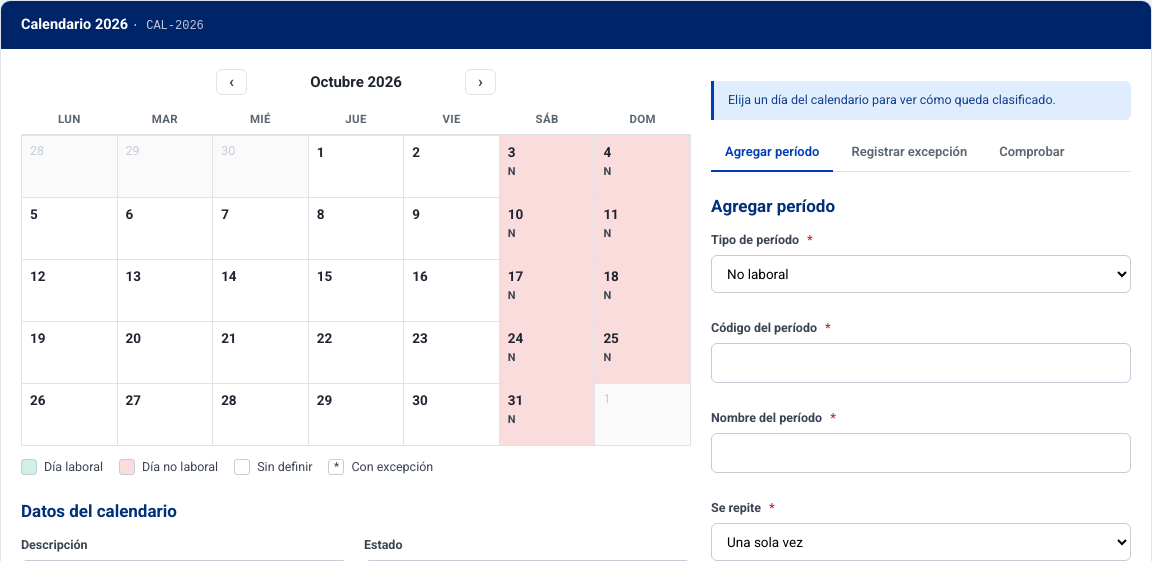
Test: CU-ADM-04 · calendario › pinta la rejilla y explica por qué un día quedó no laboral
Check: the table with class "cal-rejilla" is shown, box [21, 105, 691, 446]
Click the button with class "dia" showing "3 N" at (547, 166), box [500, 136, 594, 197]
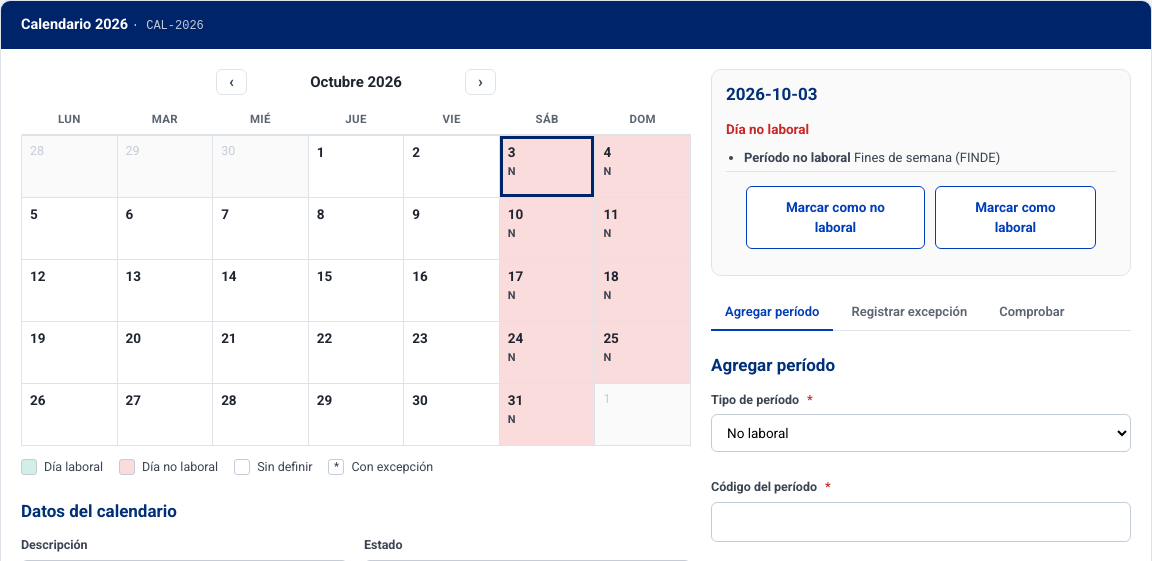
Check: the element with class "cal-dia" is shown, box [711, 69, 1131, 276]
Check: the element with class "cal-dia" shows "Día no laboral", box [726, 121, 809, 137]
Check: the list with class "cal-porque" shows "Fines de semana", box [854, 150, 1000, 164]
